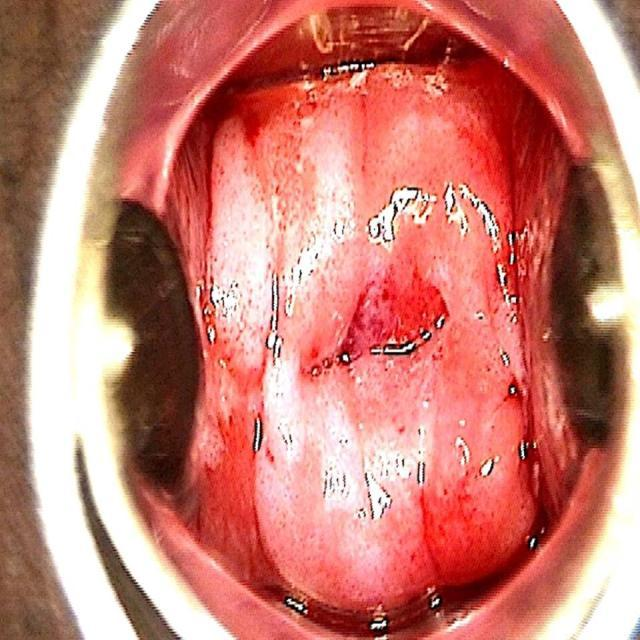cervical_lesion: (189, 172, 527, 540)
